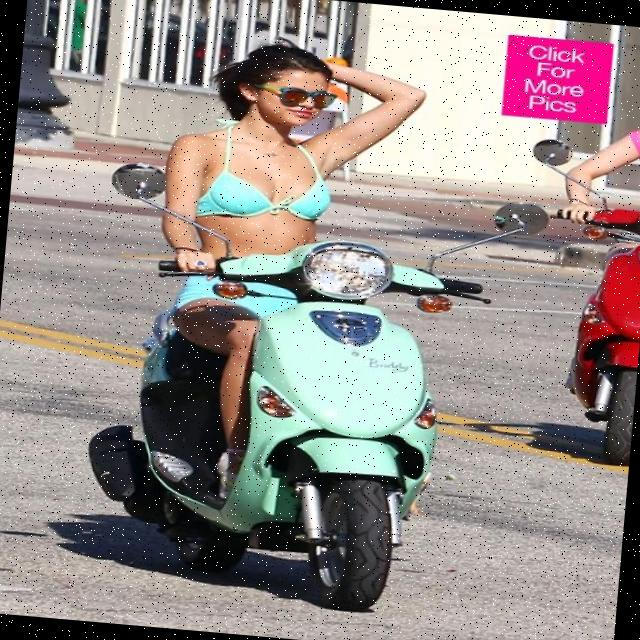No helmet: (216, 42, 342, 130)
